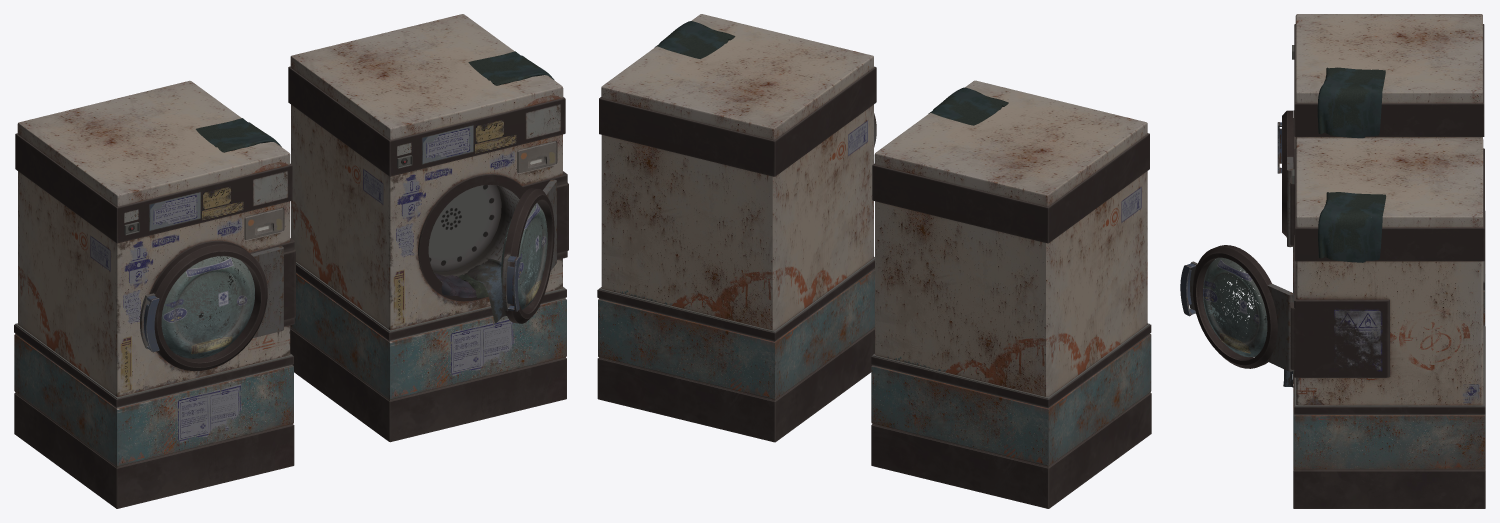
The model's file is washer export ready.fbx.
3 renders of one model, left to right at view 1: azimuth 30°, elevation 25°; view 2: azimuth 150°, elevation 25°; view 3: azimuth 270°, elevation 25°, orthographic. The views are drawn at different scales.
Visible parts, largest first — view 1: washing_low.003, washing_low.004; view 2: washing_low.003, washing_low.004; view 3: washing_low.004, washing_low.003.
Part boxes in pixels (x1=…): washing_low.003: x1=14, y1=80, x2=295, y2=508; washing_low.004: x1=288, y1=14, x2=568, y2=442; washing_low.003: x1=871, y1=80, x2=1151, y2=508; washing_low.004: x1=597, y1=14, x2=876, y2=442; washing_low.004: x1=1180, y1=138, x2=1485, y2=508; washing_low.003: x1=1277, y1=14, x2=1485, y2=383.
Size of the model in its own units: 169 by 112 by 105.
3 materials, 3 textured.
